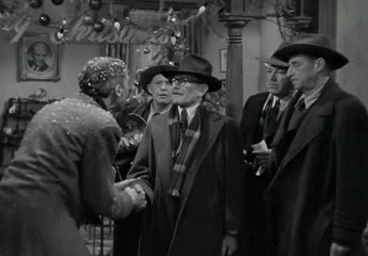face: (286, 54, 308, 90), (169, 75, 193, 105), (266, 65, 286, 94), (152, 75, 169, 105)
mls: (1, 1, 368, 256)
person: (1, 56, 147, 256), (250, 33, 367, 256), (126, 53, 245, 256), (239, 41, 295, 201), (125, 55, 170, 181)
